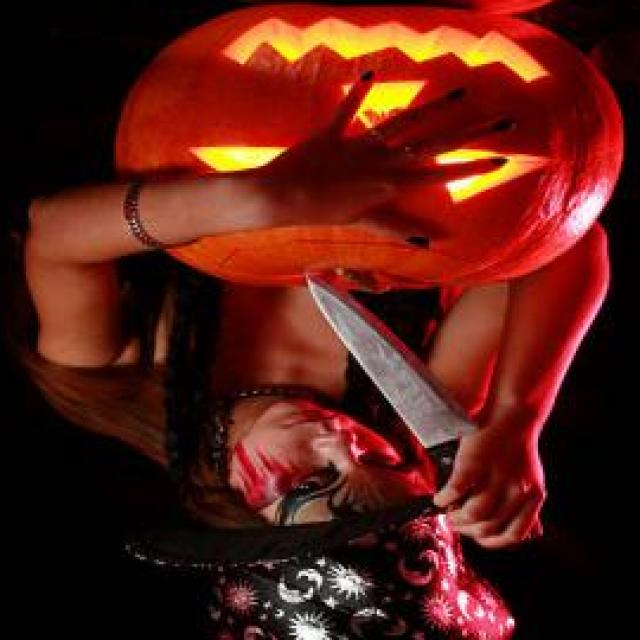knife: (297, 272, 543, 548)
